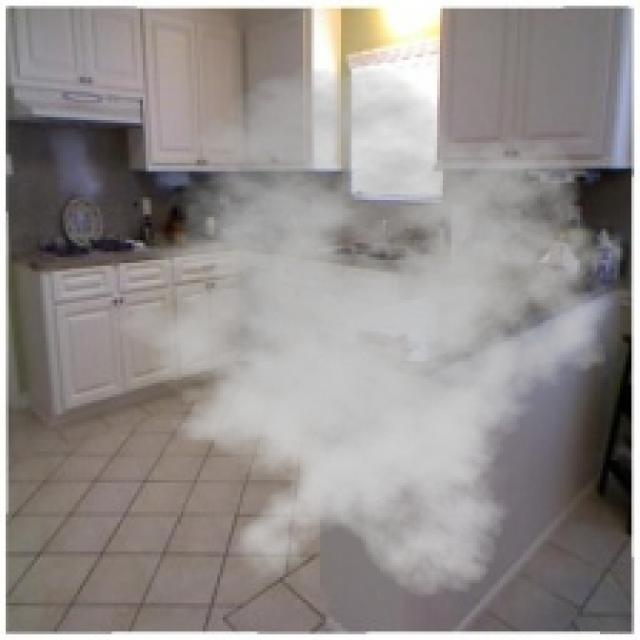smoke: (89, 66, 637, 603)
